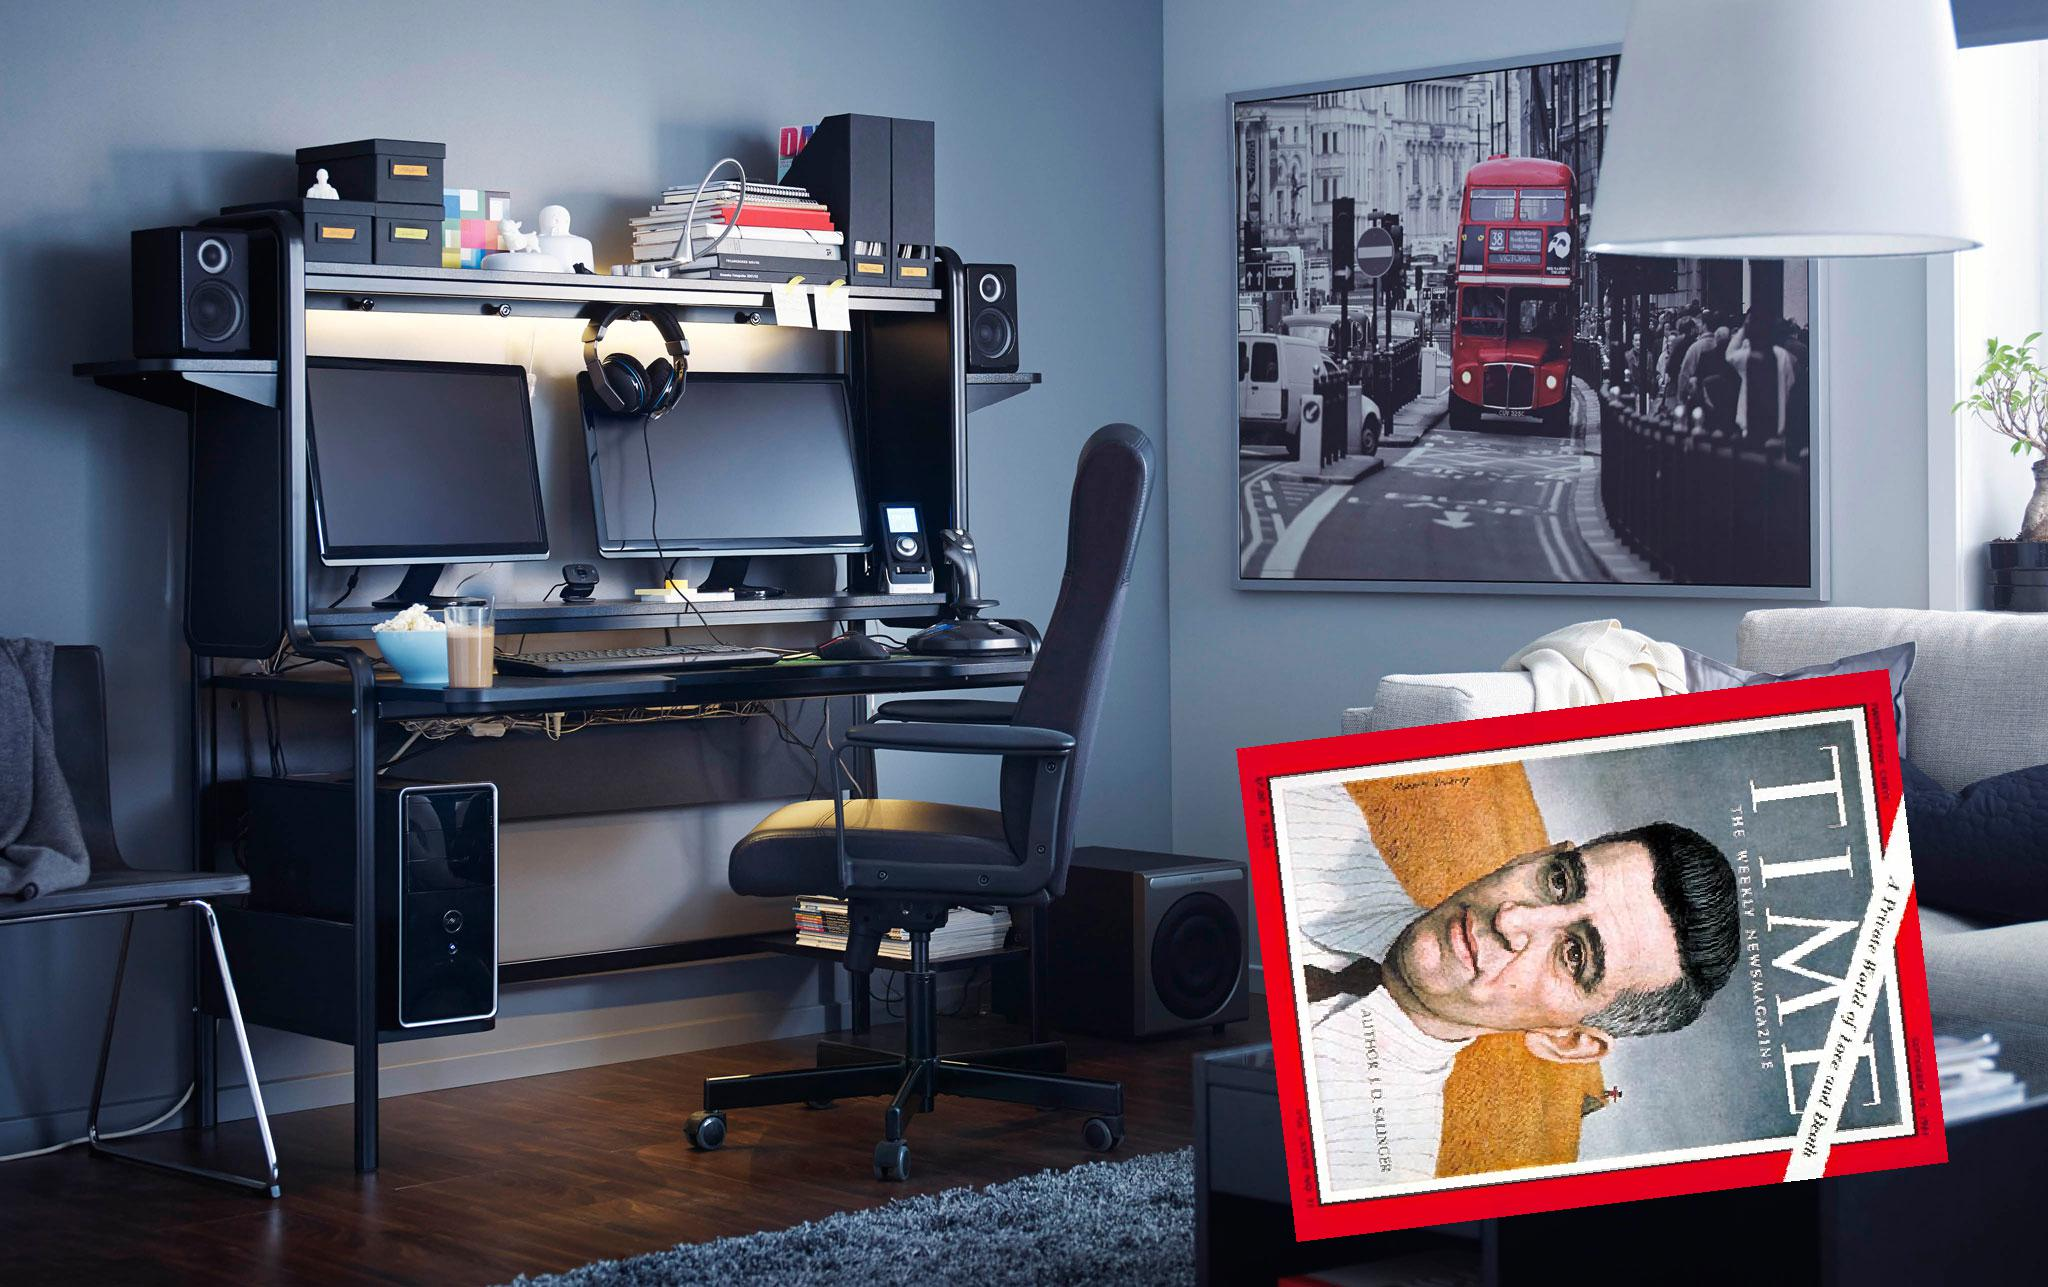times: (1230, 669, 1947, 1240)
